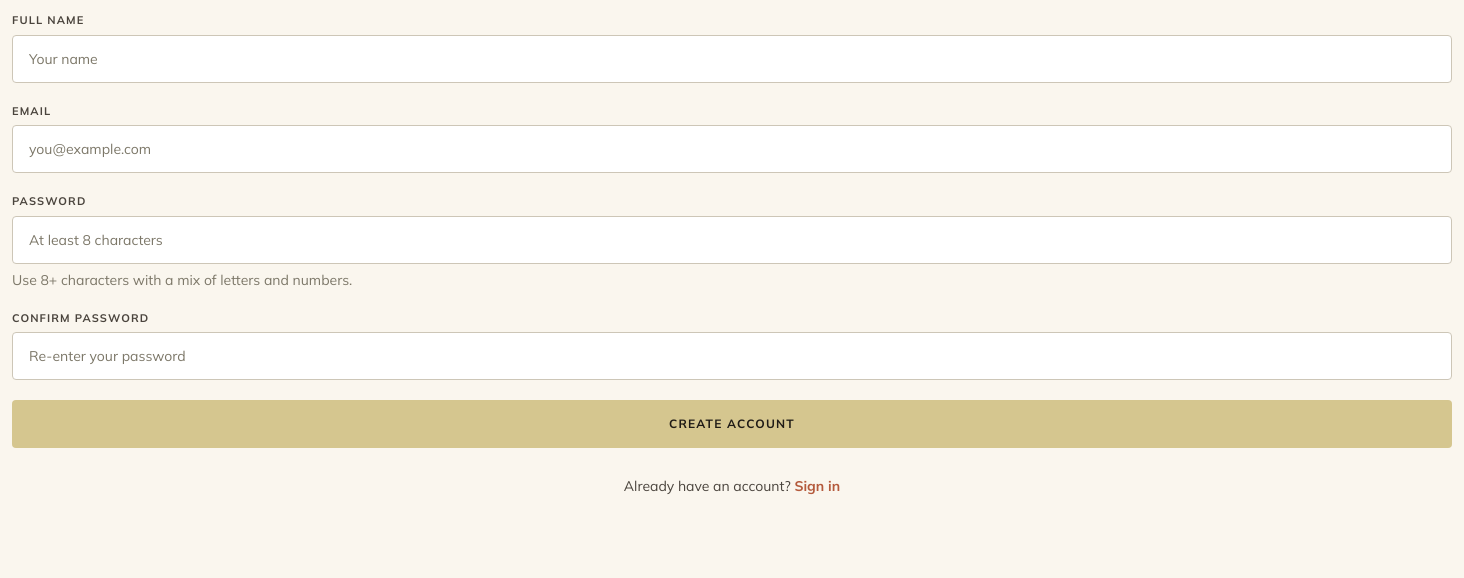
Test: RegisterForm › shows the email-exists error and a link to /login when EMAIL_EXISTS is returned
Type "Jane Doe" into the field with test id "register-name-input".
click(732, 58); type("Jane Doe")  # box [12,34,1452,82]
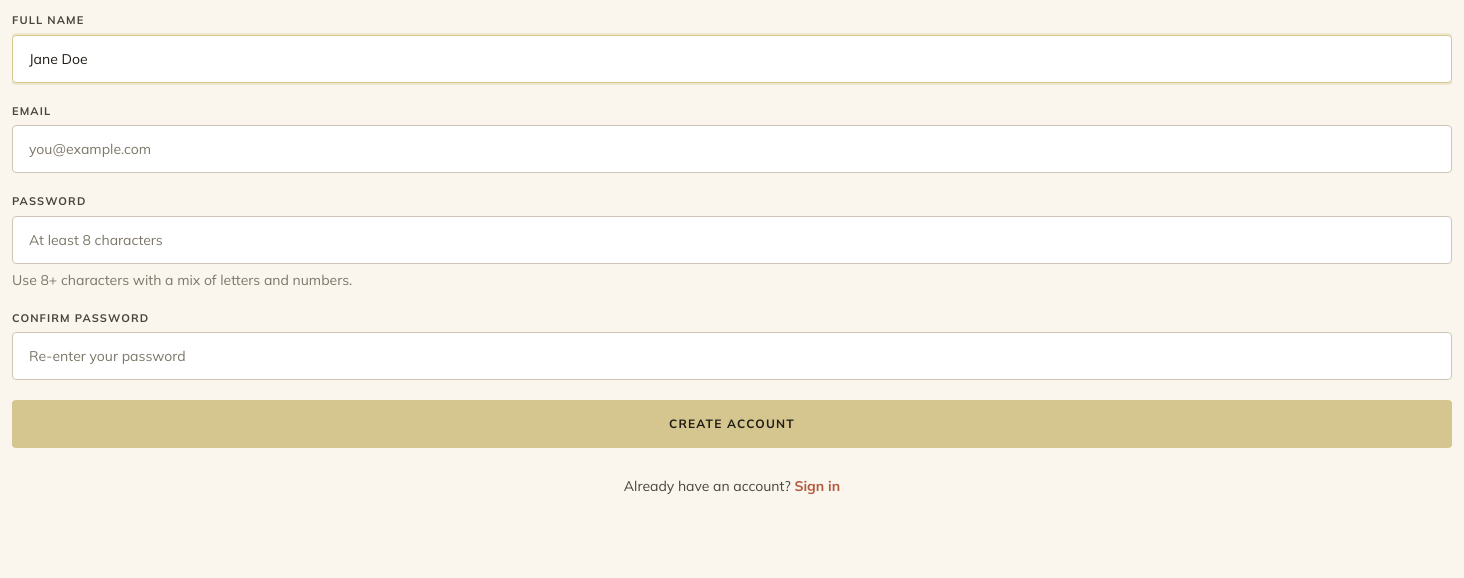
Type "jane@example.com" into the field with test id "register-email-input".
click(732, 149); type("jane@example.com")  # box [12,125,1452,173]
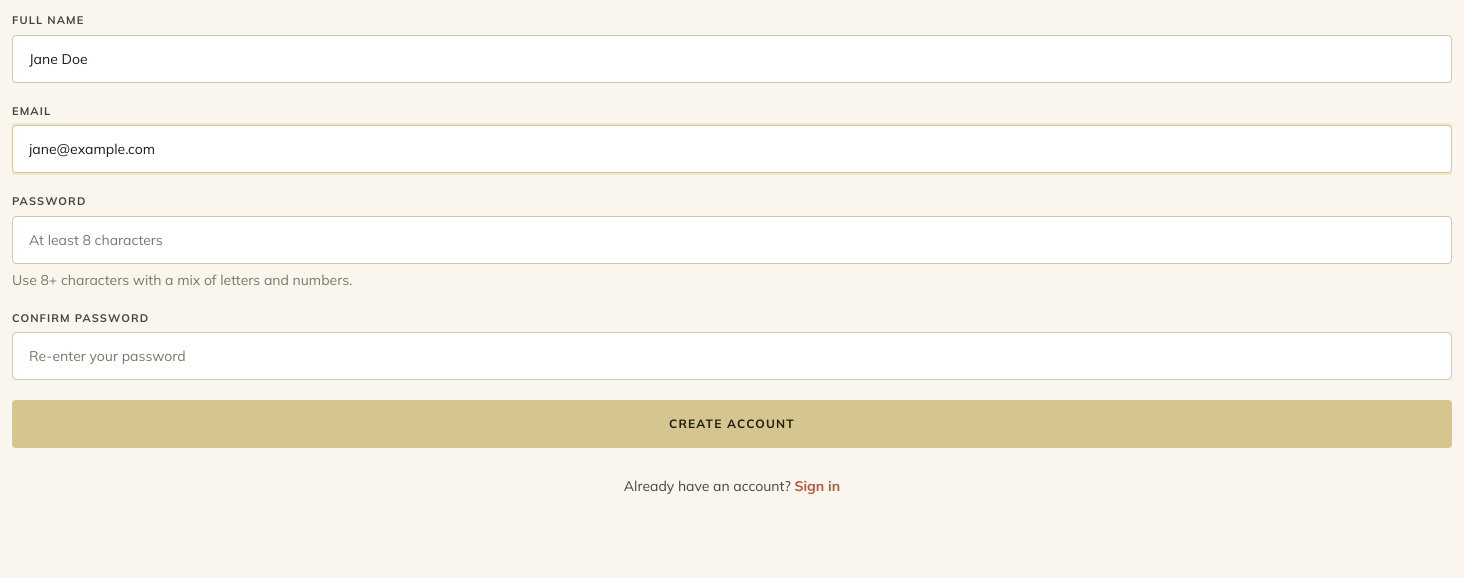
Type "password123" into the password field with test id "register-password-input".
click(732, 240); type("password123")  # box [12,216,1452,264]
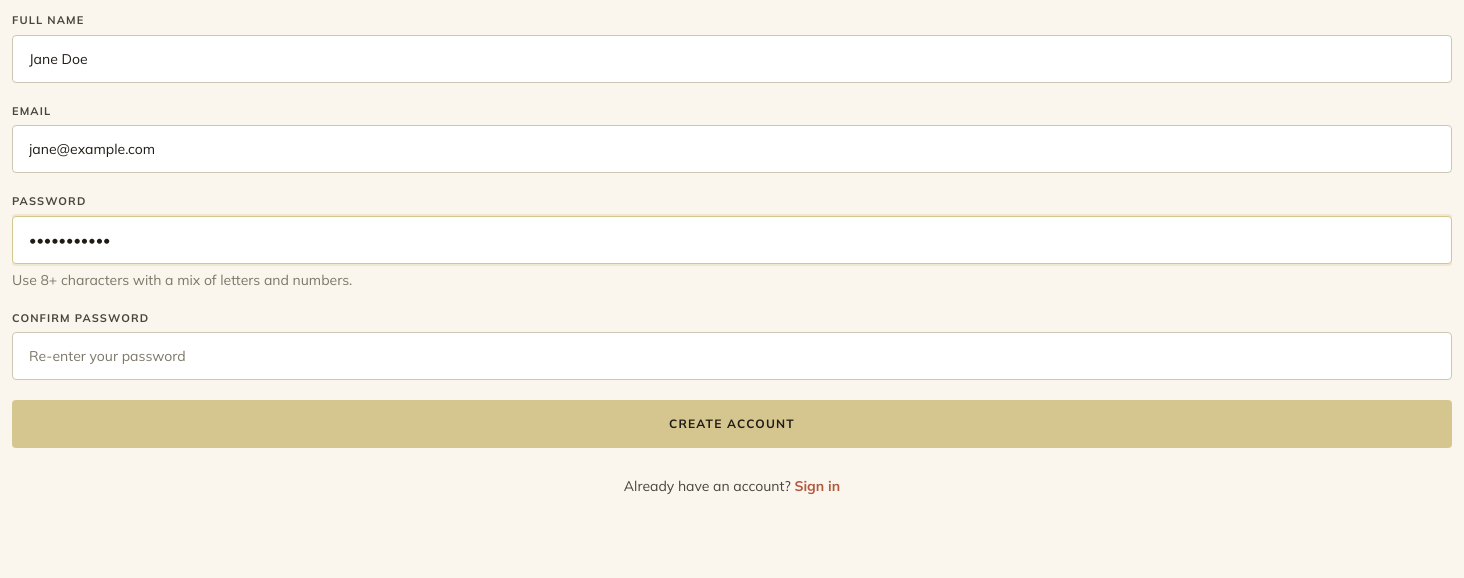
Type "password123" into the password field with test id "register-confirm-password-input".
click(732, 356); type("password123")  # box [12,332,1452,380]
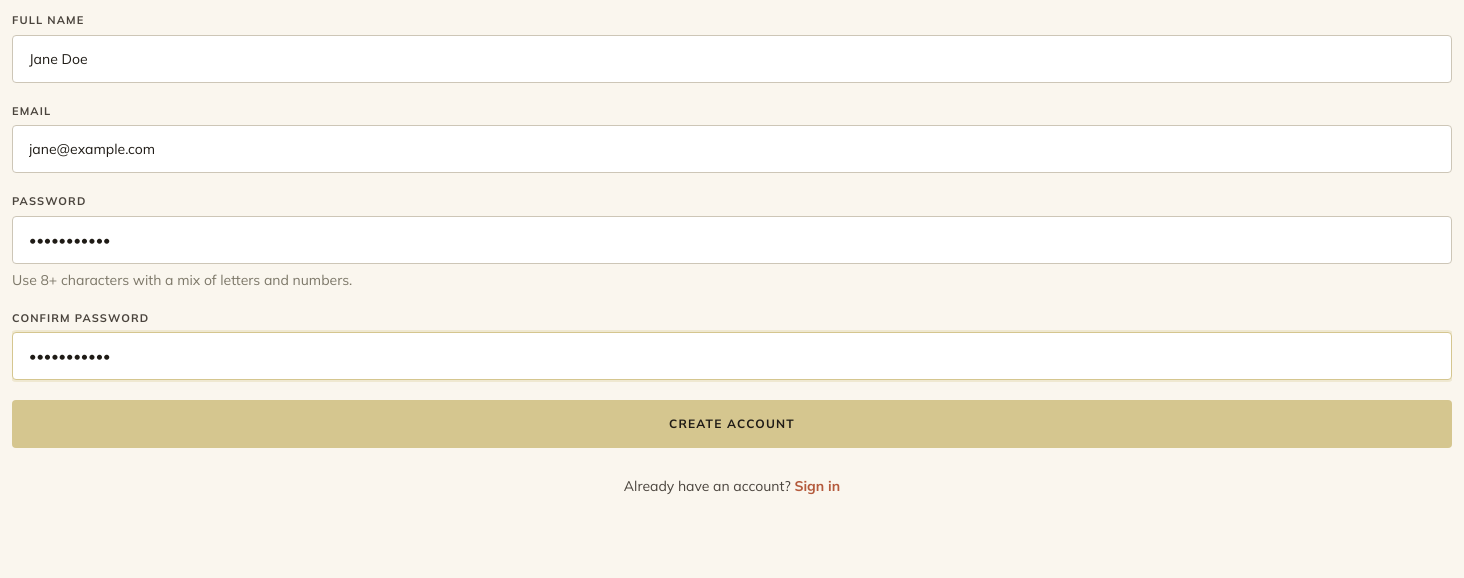
Click the button with test id "register-submit-button".
click(732, 424)  # box [12,400,1452,448]
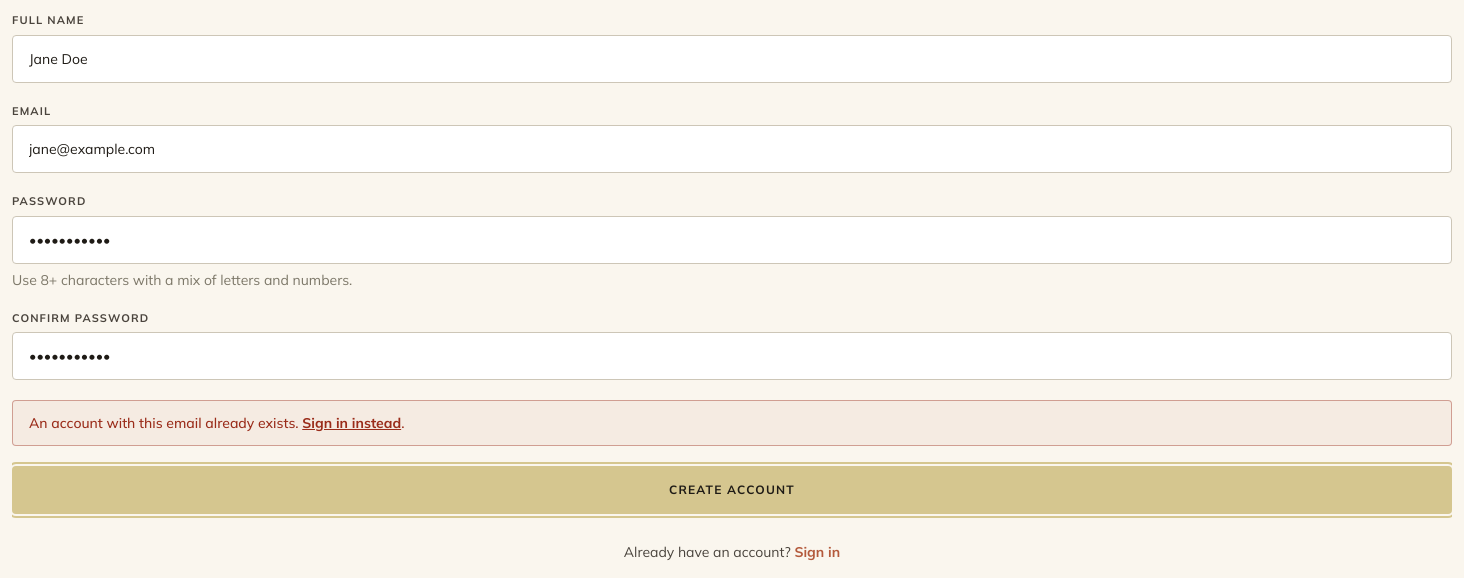
Expected: the message "An account with this email already exists. Sign in instead ." is shown, [12,400,1452,446]
